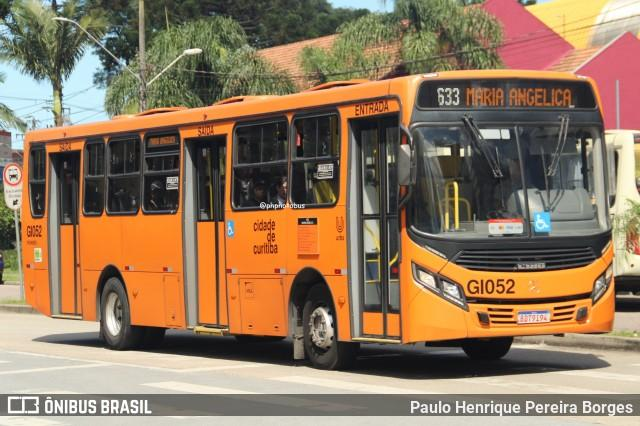MARIA ANGELICA: (462, 85, 574, 109)
